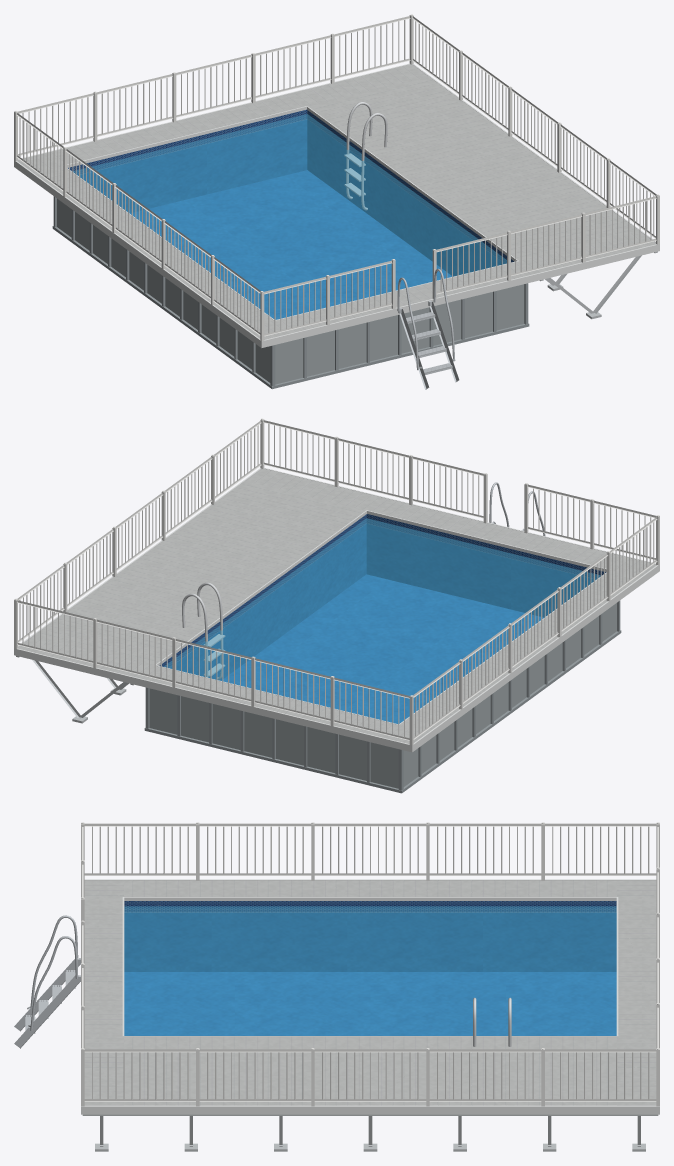
Rendered from kayak-pool-16x24-gray-side-ag-fence.34fbb926fd.glb.
The picture shows the model from 3 angles, top to bottom: view 1: azimuth 30°, elevation 25°; view 2: azimuth 150°, elevation 25°; view 3: azimuth 270°, elevation 25°; orthographic projection. The views are drawn at different scales.
Visible parts, largest first — view 1: water, deck, fence, liner_floor, liner_wall, wall, fascia, upright, ladder, steel, stud; view 2: water, deck, fence, liner_floor, liner_wall, wall, fascia, upright, steel, stud; view 3: water, deck, liner_wall, liner_floor, fence, fascia, stud, ladder.
Part boxes in pixels (x1=…): water: x1=73, y1=114, x2=506, y2=319; deck: x1=17, y1=64, x2=655, y2=339; fence: x1=14, y1=14, x2=659, y2=341; liner_floor: x1=130, y1=170, x2=451, y2=319; liner_wall: x1=68, y1=109, x2=513, y2=276; wall: x1=57, y1=198, x2=524, y2=384; fascia: x1=14, y1=63, x2=659, y2=347; upright: x1=52, y1=196, x2=529, y2=389; ladder: x1=397, y1=268, x2=459, y2=389; steel: x1=344, y1=102, x2=387, y2=210; stud: x1=539, y1=251, x2=657, y2=319; water: x1=164, y1=518, x2=600, y2=723; deck: x1=18, y1=468, x2=656, y2=743; fence: x1=14, y1=418, x2=659, y2=745; liner_floor: x1=221, y1=574, x2=543, y2=723; liner_wall: x1=159, y1=514, x2=605, y2=680; wall: x1=149, y1=603, x2=616, y2=788; fascia: x1=14, y1=467, x2=659, y2=752; upright: x1=144, y1=600, x2=621, y2=793; steel: x1=182, y1=582, x2=225, y2=679; stud: x1=16, y1=656, x2=133, y2=723; water: x1=124, y1=906, x2=616, y2=1035; deck: x1=84, y1=880, x2=656, y2=1105; liner_wall: x1=124, y1=901, x2=616, y2=971; liner_floor: x1=124, y1=972, x2=616, y2=1035; fence: x1=81, y1=822, x2=659, y2=1106; fascia: x1=81, y1=879, x2=659, y2=1114; stud: x1=82, y1=1114, x2=658, y2=1151; ladder: x1=14, y1=915, x2=80, y2=1048.
Bounding box in the file's own units: 7.93 × 2.15 × 9.52.
11 materials, 3 textured.
